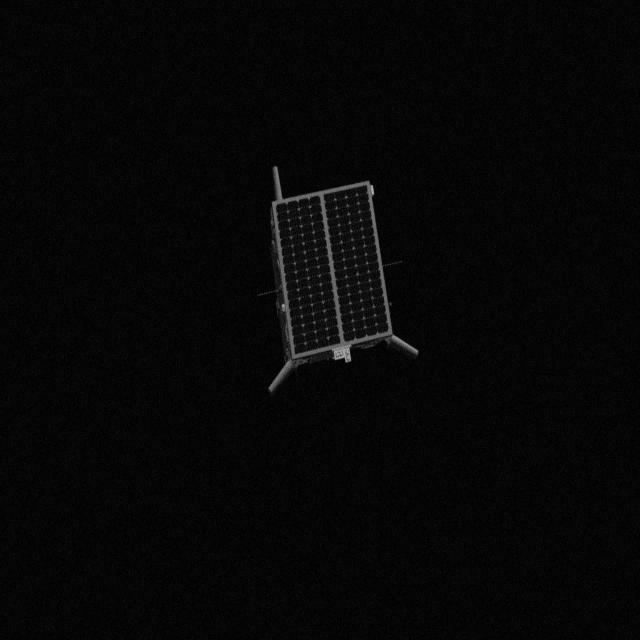satellite: (254, 164, 426, 396)
